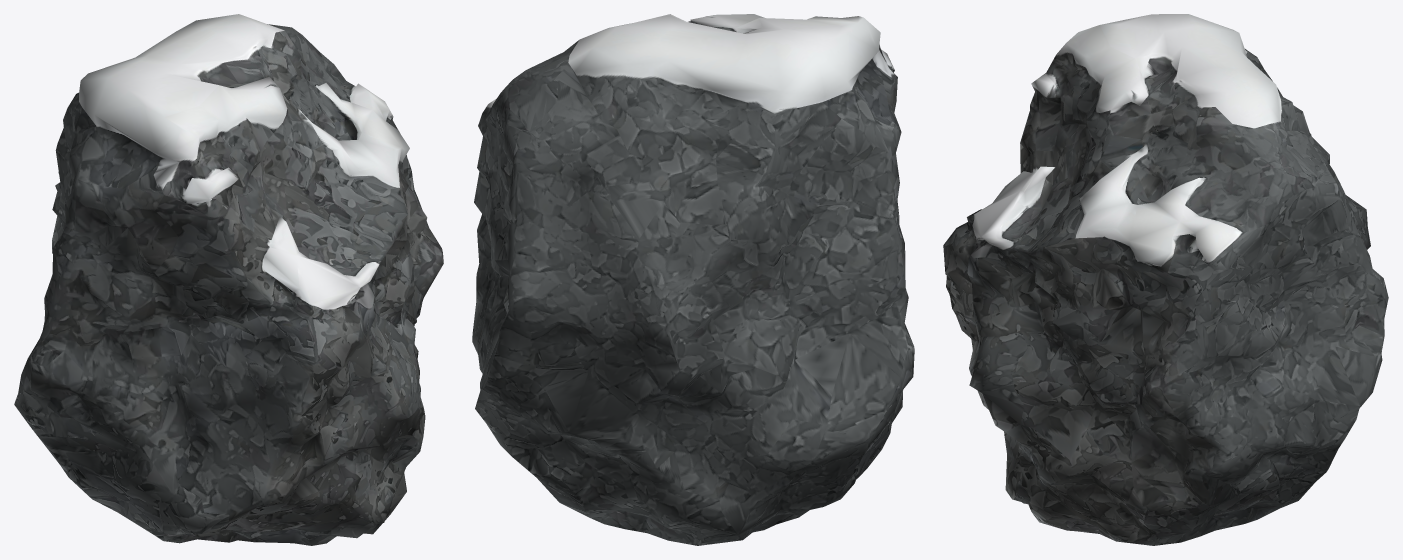
Rendered from gnd_alpine_boulder.fbx.
The picture shows the model from 3 angles, left to right: view 1: azimuth 30°, elevation 25°; view 2: azimuth 150°, elevation 25°; view 3: azimuth 270°, elevation 25°; orthographic projection. The views are drawn at different scales.
Visible parts, largest first — view 1: gnd_alpine_boulder_LOD0; view 2: gnd_alpine_boulder_LOD0; view 3: gnd_alpine_boulder_LOD0.
Boxes of the visible parts, x1,y1,x2,y2 form: gnd_alpine_boulder_LOD0: (14, 14, 443, 545); gnd_alpine_boulder_LOD0: (472, 14, 914, 545); gnd_alpine_boulder_LOD0: (943, 14, 1388, 545).
Size of what is drawn, in the model's own units: 0.9021 by 0.9798 by 0.9077.
